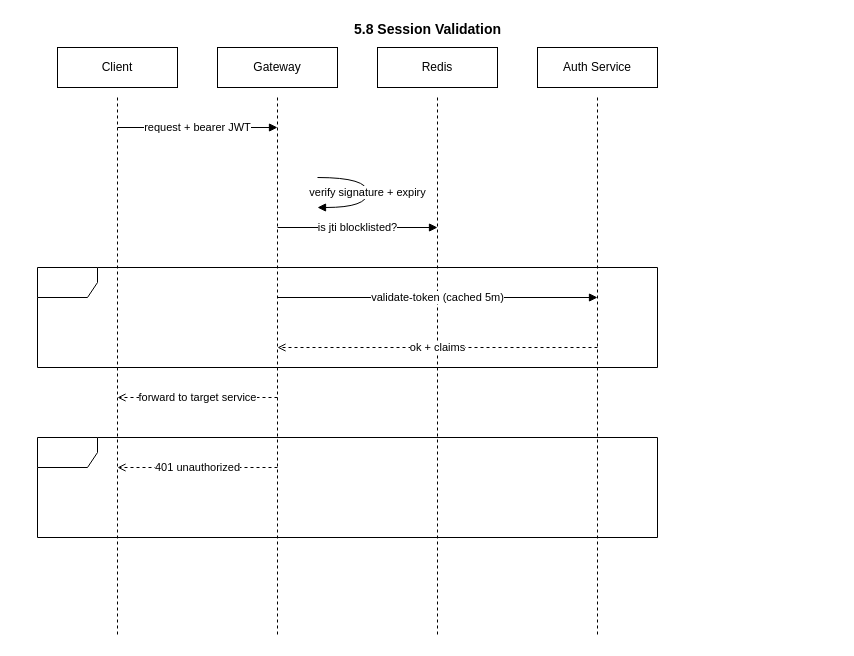
This 854x656 diagram has some shape labels left out. The shapes that lost their labels are listed below. From the top down, each one's box as (x1, y1, x2, y2) in pixels, then its label:
(36, 266, 658, 368): alt valid and not blocklisted
(36, 436, 658, 538): else invalid or revoked
